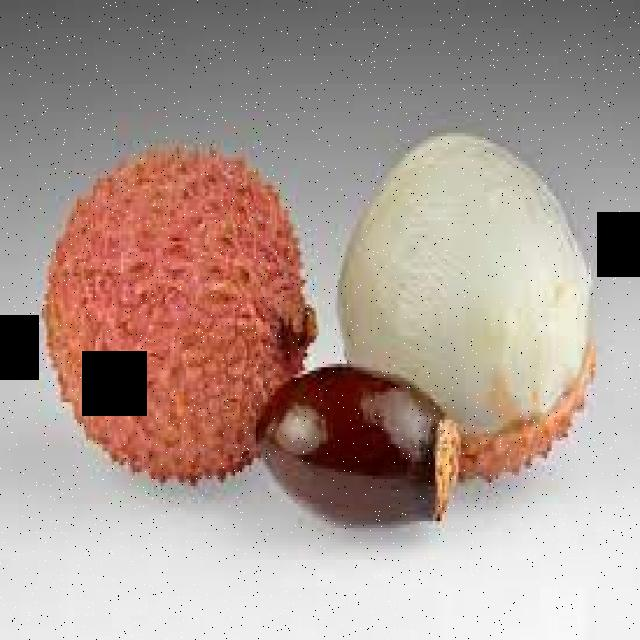lychee: (62, 119, 597, 522)
